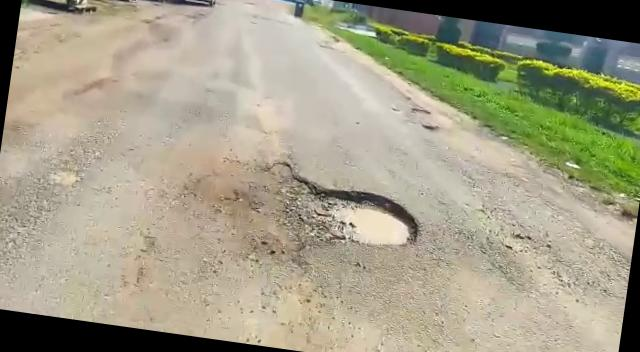pothole: (246, 158, 440, 266)
